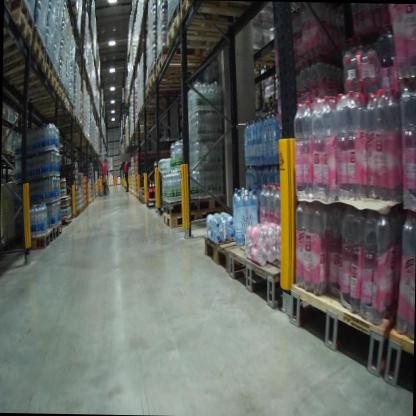pallet: (285, 276, 397, 378), (227, 237, 284, 317), (200, 220, 265, 290), (164, 10, 227, 57), (162, 188, 229, 220), (180, 0, 265, 25), (382, 326, 412, 396), (2, 41, 46, 86), (3, 4, 38, 60), (161, 204, 229, 231), (14, 56, 53, 94), (239, 41, 287, 71), (156, 45, 204, 72), (154, 54, 203, 80), (23, 74, 60, 106), (146, 72, 197, 94), (17, 222, 53, 252), (144, 82, 193, 101), (5, 0, 33, 28), (33, 86, 66, 107), (40, 98, 70, 117), (38, 108, 73, 124), (31, 23, 48, 54), (52, 118, 84, 134), (139, 102, 177, 114), (50, 115, 80, 129), (143, 197, 169, 212), (48, 221, 64, 244), (56, 213, 73, 230), (44, 49, 55, 73), (256, 93, 277, 105), (146, 65, 157, 85), (71, 24, 83, 42), (58, 72, 66, 93), (53, 61, 59, 84), (263, 107, 275, 118), (63, 86, 70, 102), (144, 77, 152, 90), (6, 147, 13, 159), (69, 93, 73, 111), (12, 152, 21, 160), (74, 208, 80, 217), (2, 147, 7, 156), (79, 205, 82, 212), (82, 205, 85, 212)
pallet_truck: (95, 147, 112, 202)
